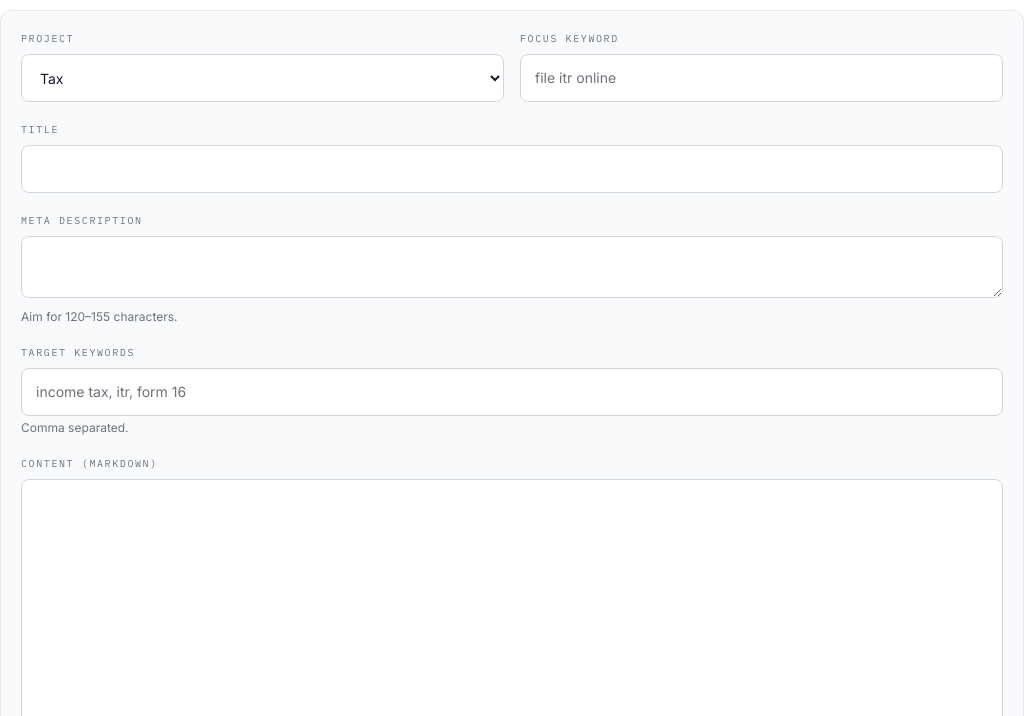
Test: SeoPostsPanel › creates an seo-tagged piece and schedules it at the optimal time
The width and height of the screenshot is (1024, 716).
In the field labelled "Title": (512, 169) [21, 145, 1003, 193], type "File ITR online"
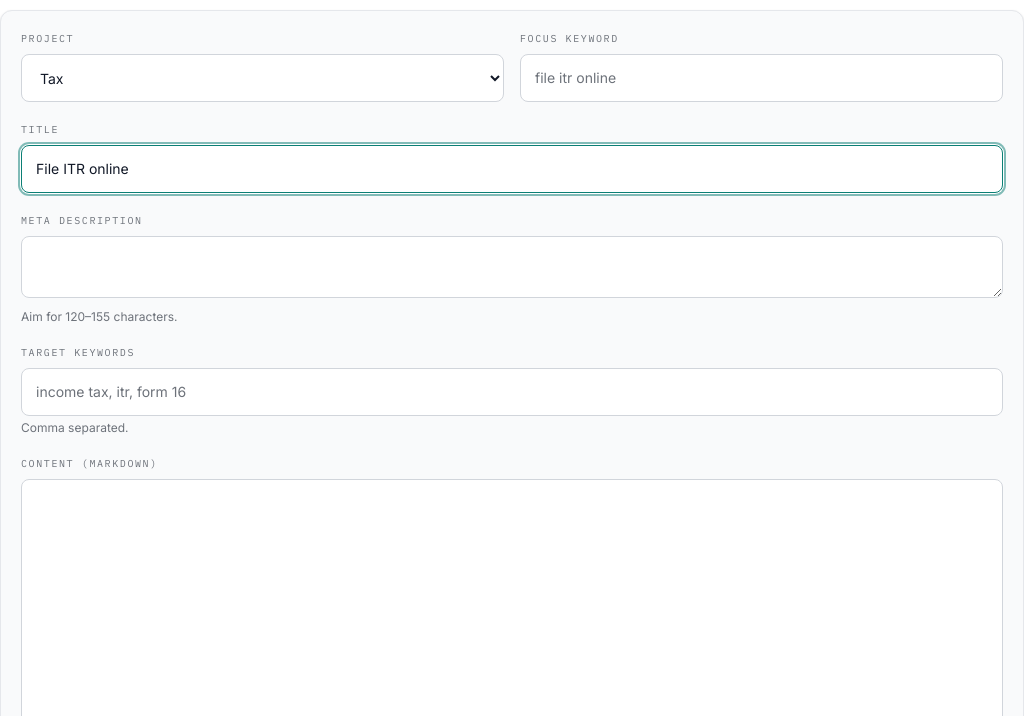
In the field labelled "Target keywords": (512, 392) [21, 368, 1003, 416], type "income tax, itr"
(page scrolled)
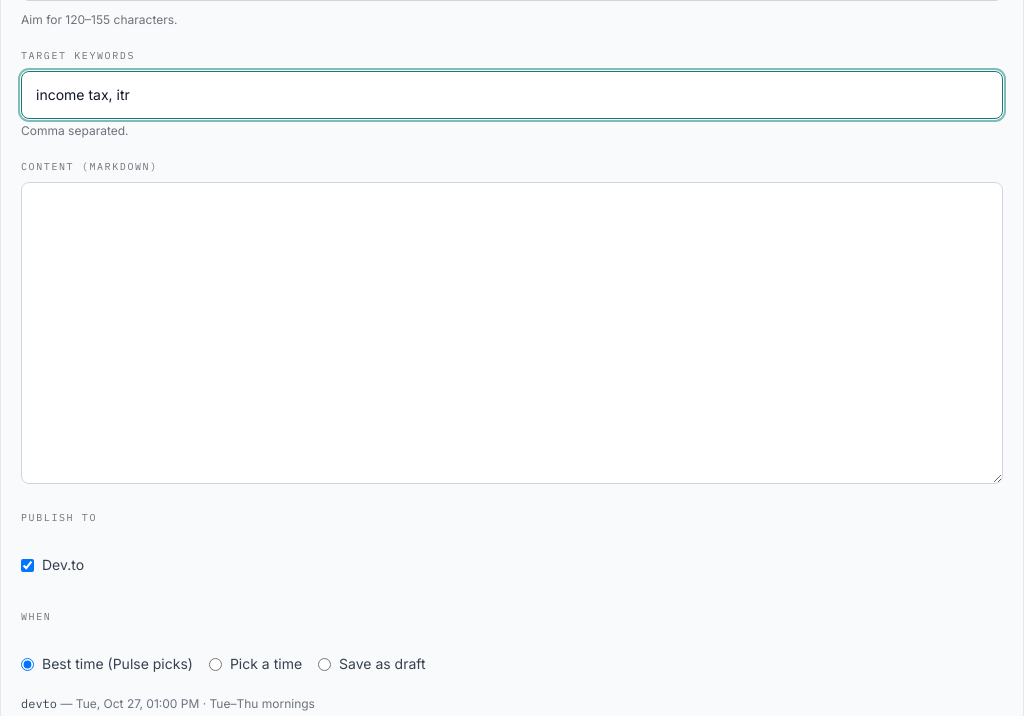
In the text box labelled "Content (Markdown)": (512, 332) [21, 182, 1003, 484], type "Filing income tax is easy."
(page scrolled)
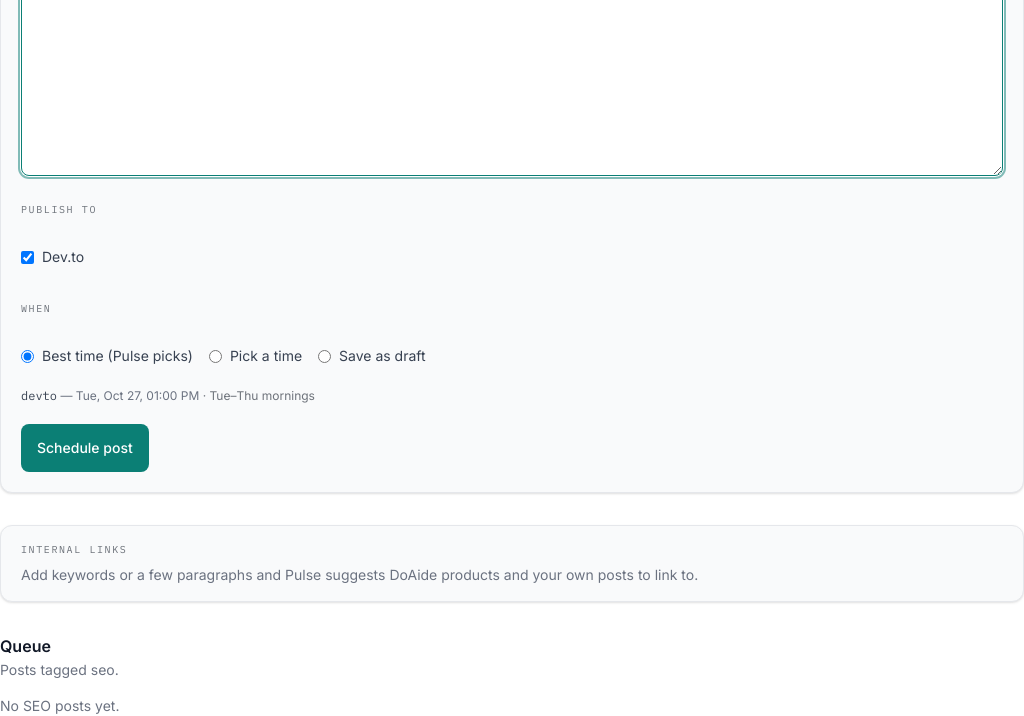
Click the button "Schedule post": (85, 448) [21, 424, 149, 472]
(page scrolled)
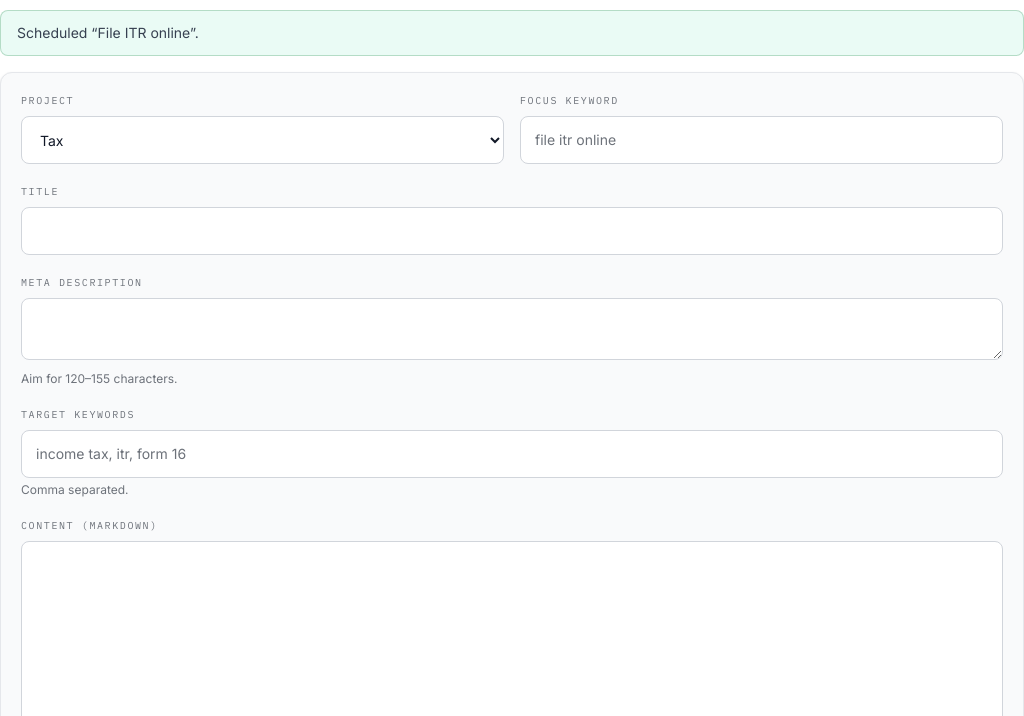
Now the message shows "Scheduled", box [17, 24, 199, 41]
